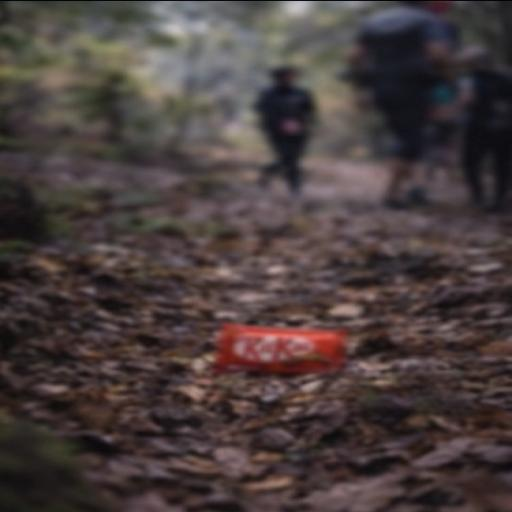kitkat: (185, 292, 409, 399)
